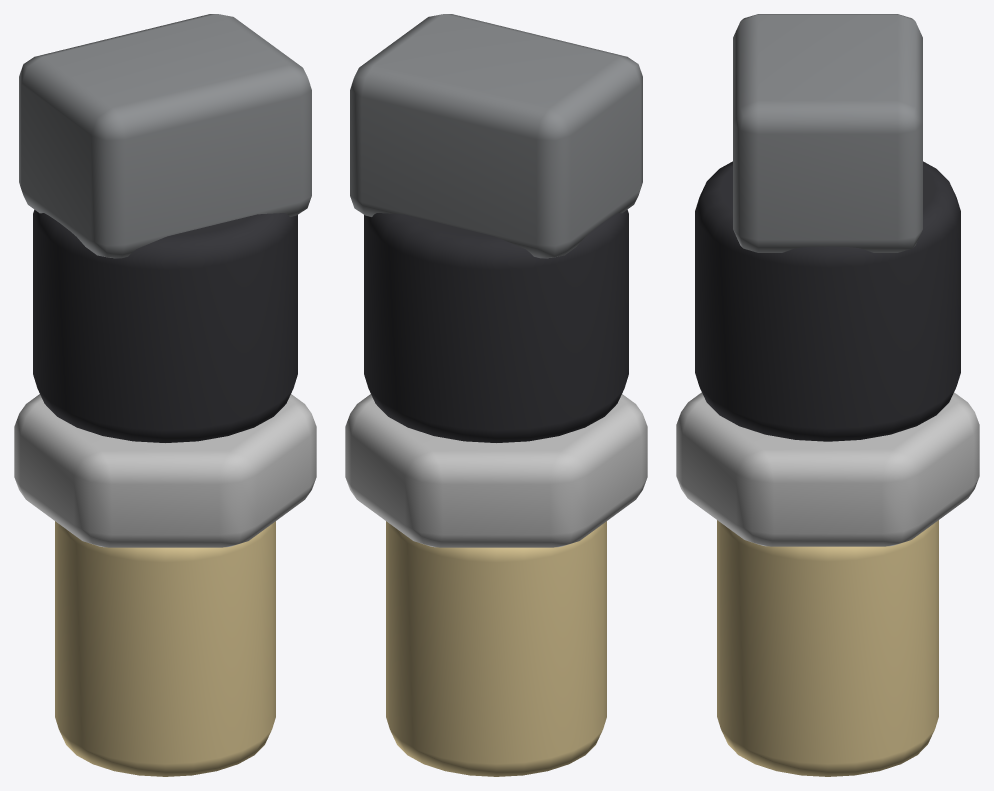
Rendered from CkpSensor.fbx.
3 views of the same model, side by side, from view 1: azimuth 30°, elevation 25°; view 2: azimuth 150°, elevation 25°; view 3: azimuth 270°, elevation 25° (orthographic).
Parts seen in each view (by area): view 1: CkpSensor_LOD0; view 2: CkpSensor_LOD0; view 3: CkpSensor_LOD0.
Boxes of the visible parts, left/top/right/bottom form: CkpSensor_LOD0: left=14, top=14, right=316, bottom=776; CkpSensor_LOD0: left=345, top=14, right=647, bottom=776; CkpSensor_LOD0: left=676, top=14, right=979, bottom=776.
Size of what is drawn, in the model's own units: 0.0217 by 0.0594 by 0.024.
